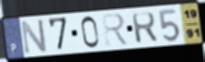0: (80, 15, 100, 49)
5: (157, 7, 182, 43)
7: (47, 16, 69, 53)
N: (20, 18, 49, 56)
R: (101, 12, 131, 47), (130, 11, 159, 45)
